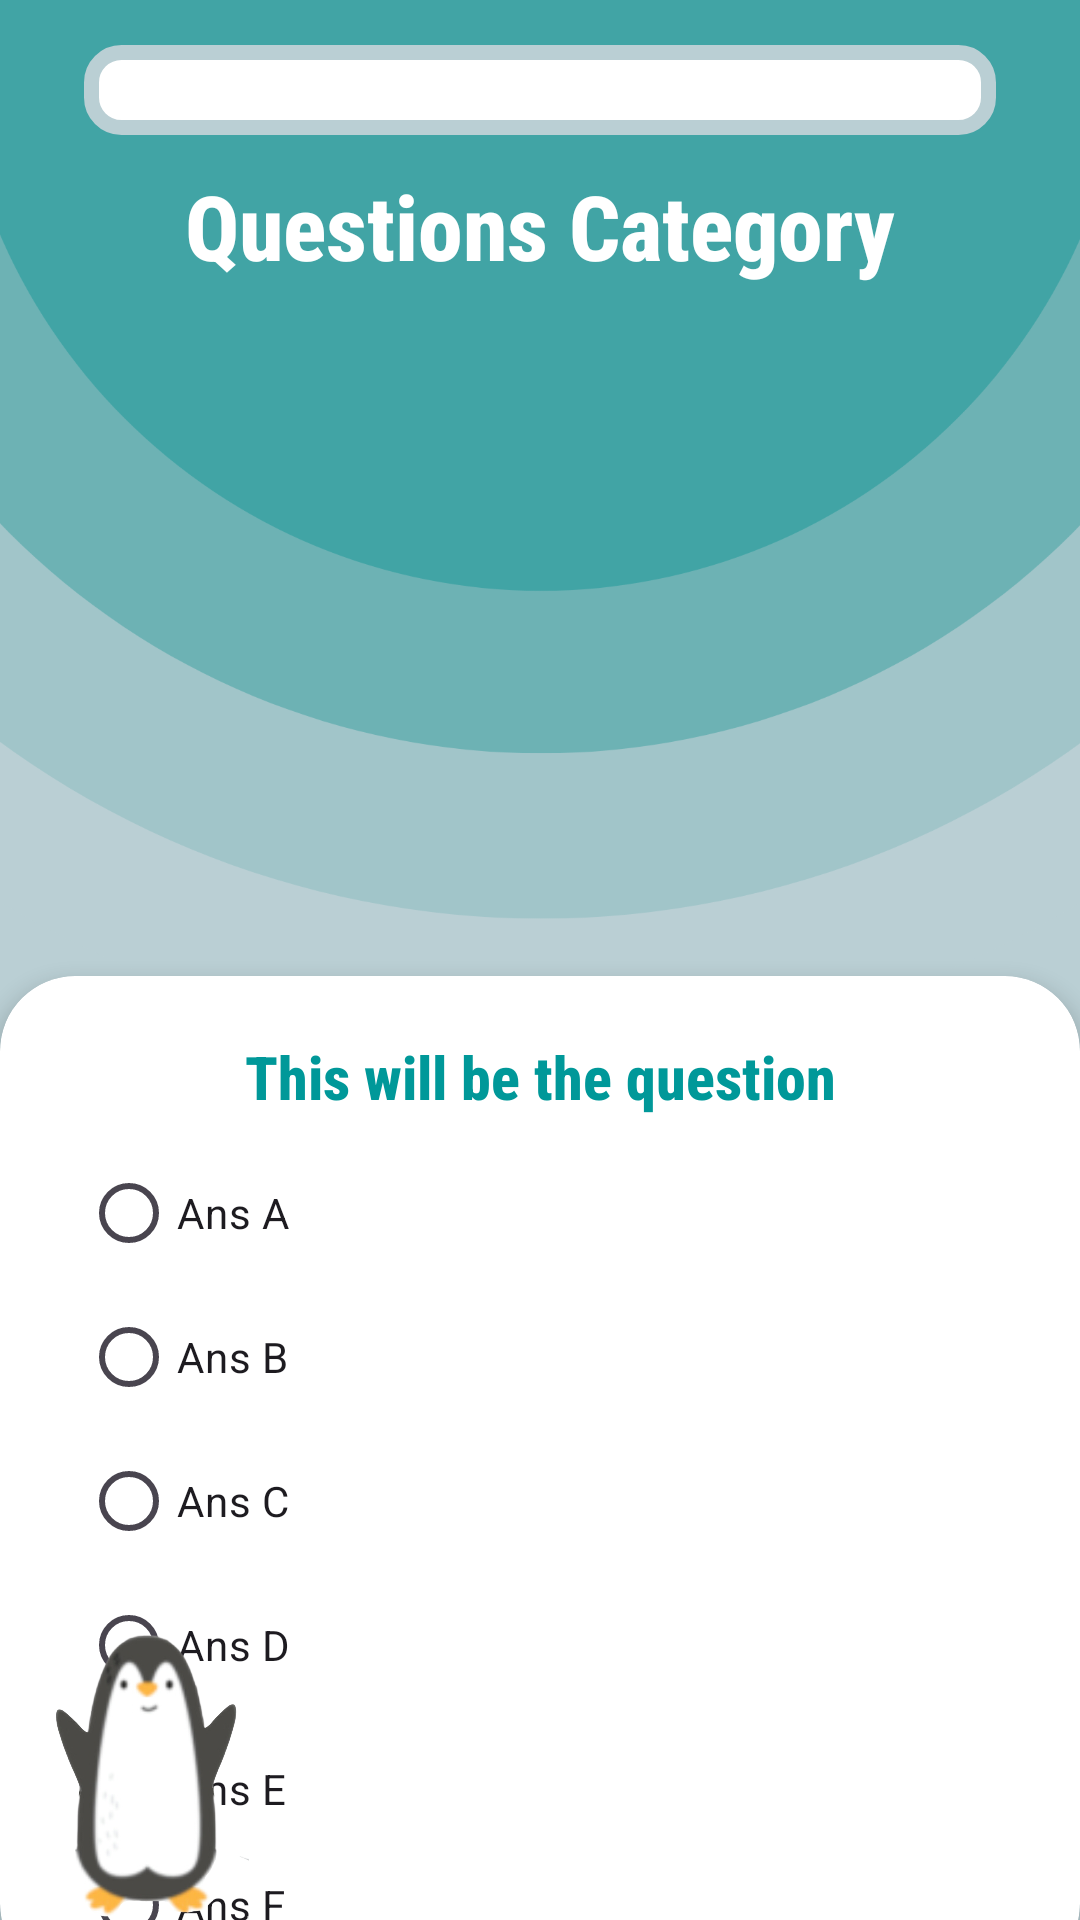

Icons on this 1080*1920 Android screen, each with its box as (x1, y1, x2, y2):
front happy penguin: (0, 1619, 287, 1919)
